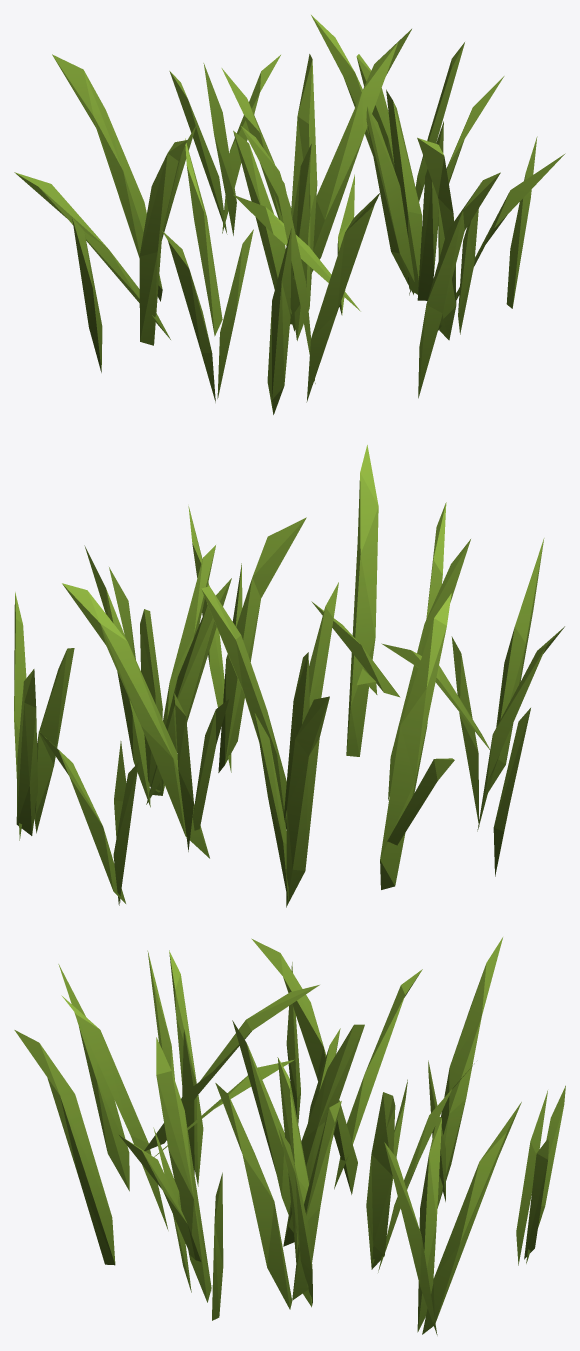
The model's file is ZLP_Grass_A_9.FBX.
The picture shows the model from 3 angles, top to bottom: view 1: azimuth 30°, elevation 25°; view 2: azimuth 150°, elevation 25°; view 3: azimuth 270°, elevation 25°; orthographic projection. The views are drawn at different scales.
Visible parts, largest first — view 1: ZLP_Grass_A_9; view 2: ZLP_Grass_A_9; view 3: ZLP_Grass_A_9.
Part boxes in pixels (x1=…): ZLP_Grass_A_9: x1=14, y1=15, x2=565, y2=414; ZLP_Grass_A_9: x1=14, y1=445, x2=564, y2=907; ZLP_Grass_A_9: x1=14, y1=937, x2=565, y2=1335.
Bounding box in the file's own units: 140 × 78.84 × 151.
